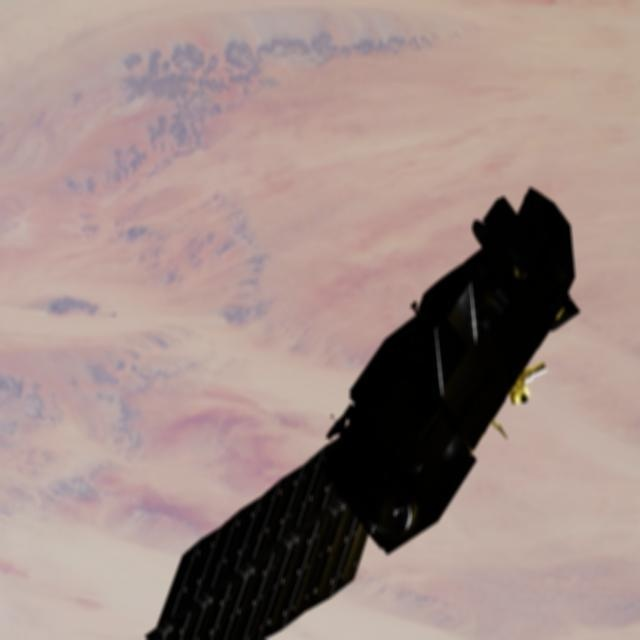satellite: (139, 201, 597, 640)
